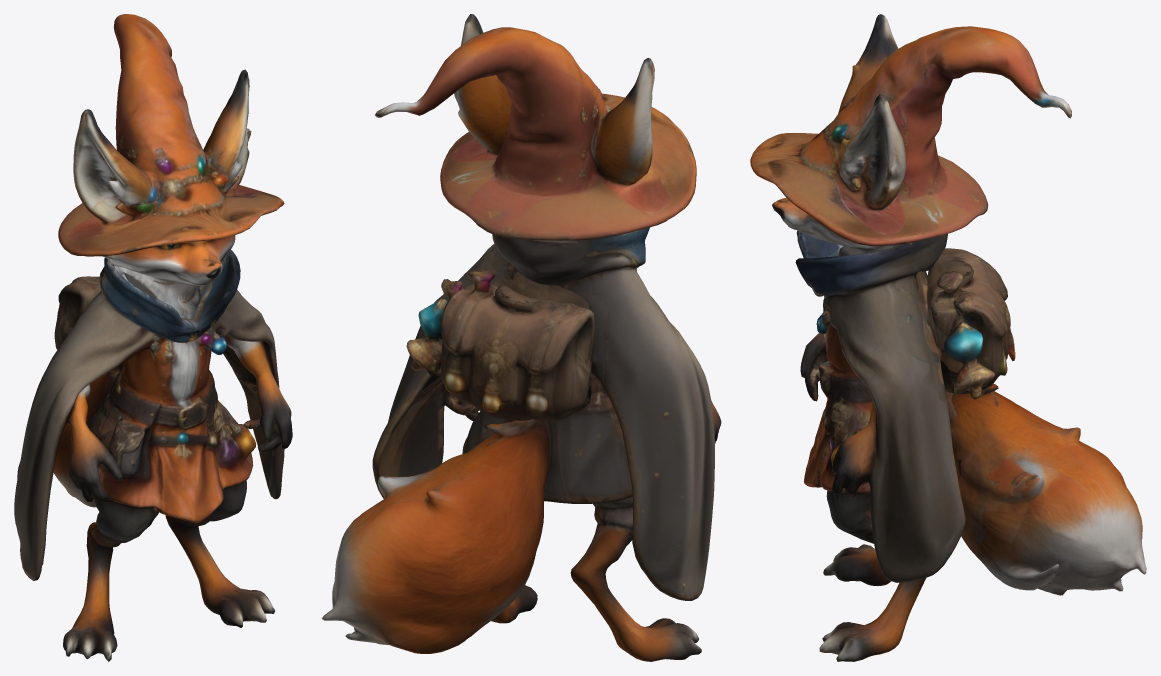
File: Loki4.glb
3 renders of one model, left to right at view 1: azimuth 30°, elevation 25°; view 2: azimuth 150°, elevation 25°; view 3: azimuth 270°, elevation 25°, orthographic. The views are drawn at different scales.
Parts seen in each view (by area): view 1: Object_4; view 2: Object_4; view 3: Object_4.
Part boxes in pixels (x1,y1,x2,y2): Object_4: (14,14,292,661); Object_4: (321,14,721,661); Object_4: (750,14,1146,661).
Size of the model in its own units: 0.9842 by 2 by 1.2.
1 material, 1 textured.
